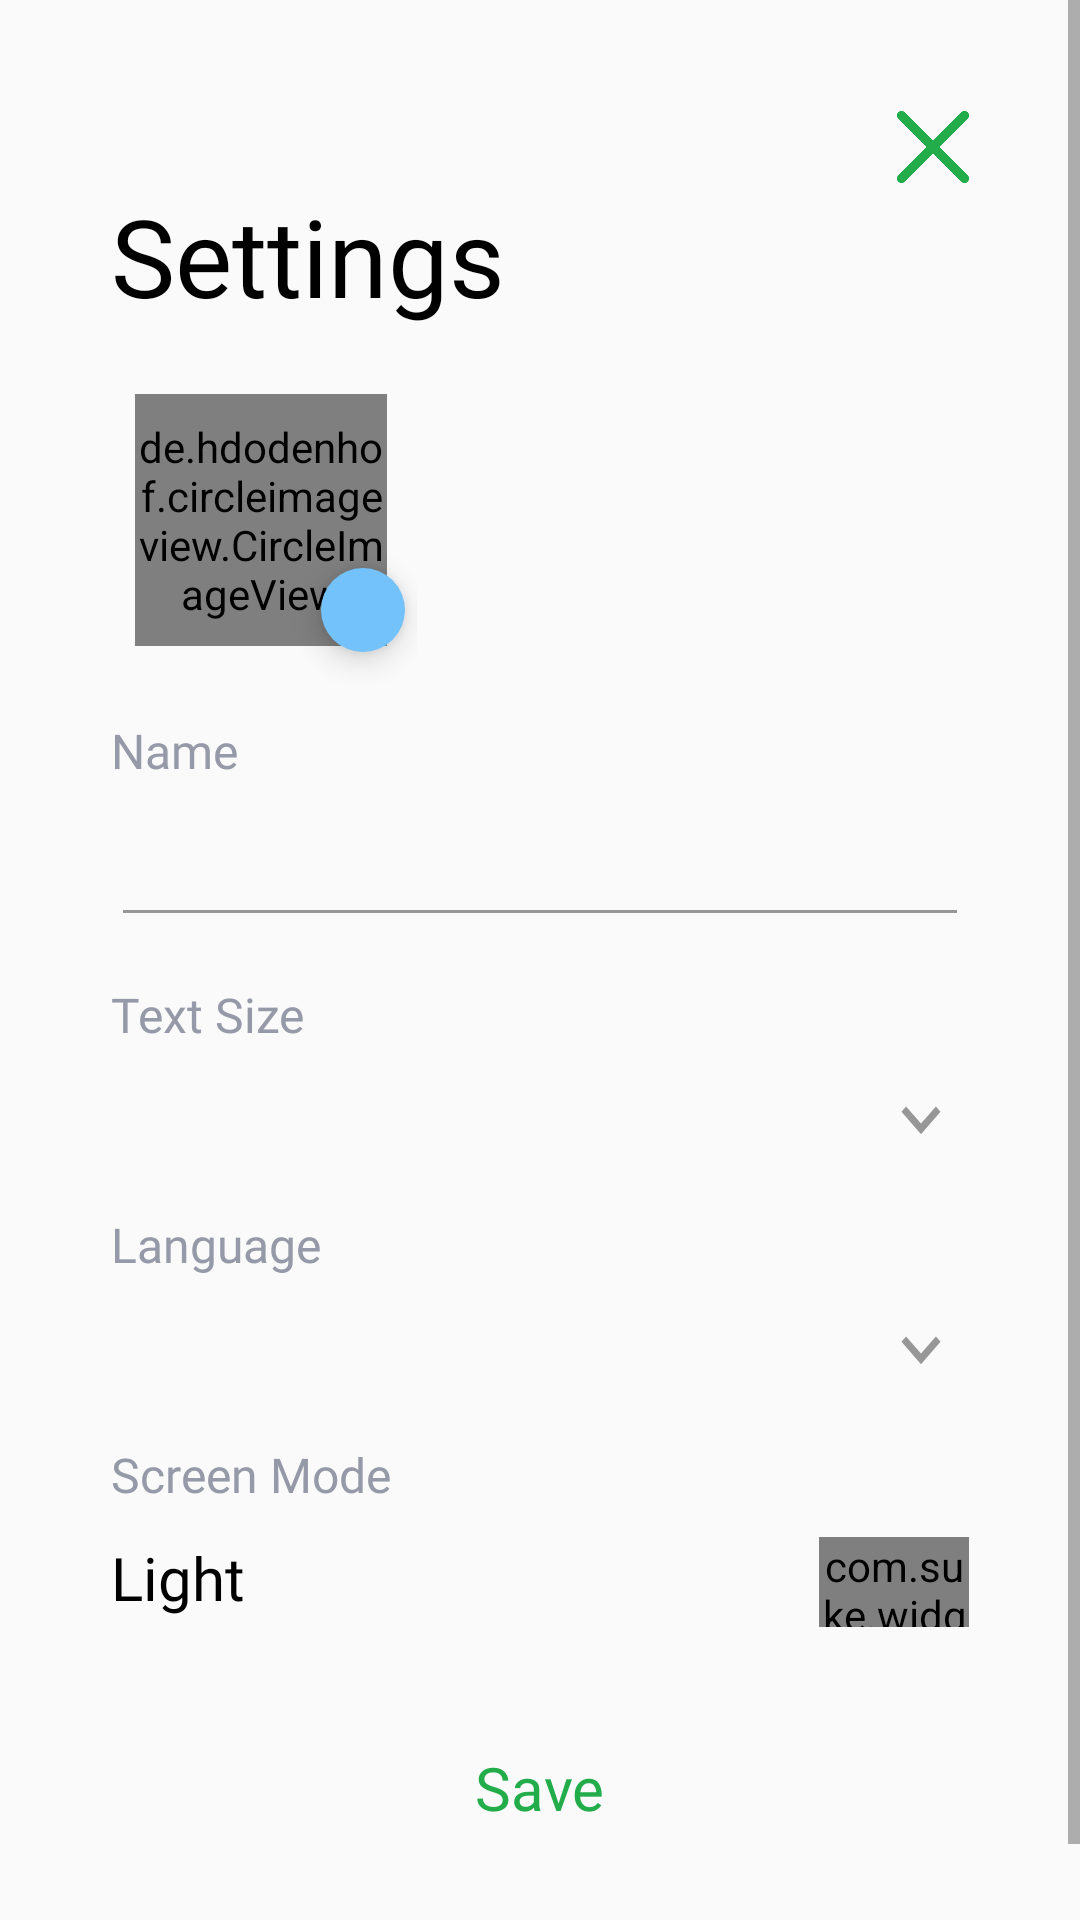

Screen size 1080px×1920px. Icon name, then its box in pixels as rect(x1, y1, x2, y2):
close: rect(897, 111, 969, 183)
down: rect(902, 1107, 940, 1134), rect(902, 1337, 940, 1364)
